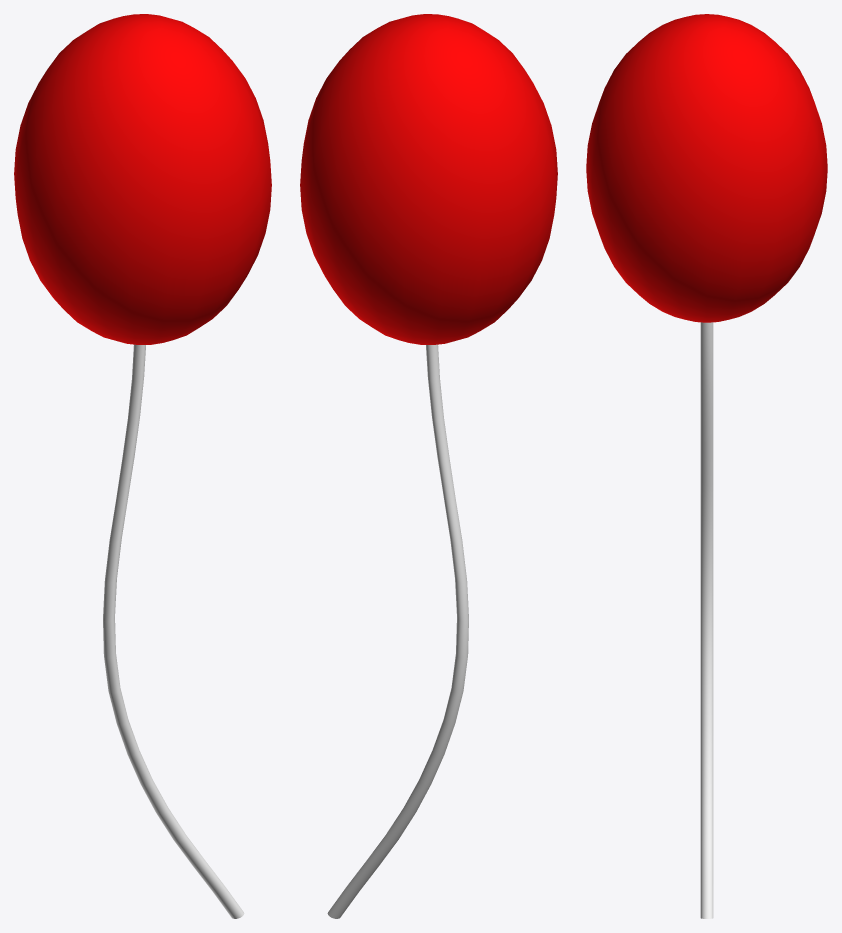
File: Balloon.obj
3 renders of one model, left to right at view 1: azimuth 30°, elevation 25°; view 2: azimuth 150°, elevation 25°; view 3: azimuth 270°, elevation 25°, orthographic. The views are drawn at different scales.
Visible parts, largest first — view 1: pCylinder2; view 2: pCylinder2; view 3: pCylinder2.
Part boxes in pixels (x1,y1,x2,y2): pCylinder2: (14,14,271,918); pCylinder2: (300,14,557,918); pCylinder2: (586,14,827,918).
Bounding box in the file's own units: 1.54 × 5.99 × 1.54.
